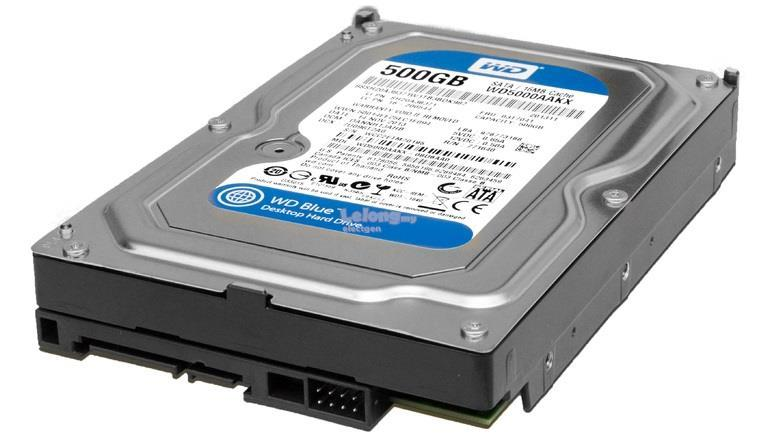3.5" Hard Drive: (28, 3, 756, 433)
SATA Hard Drive: (484, 75, 585, 112)
